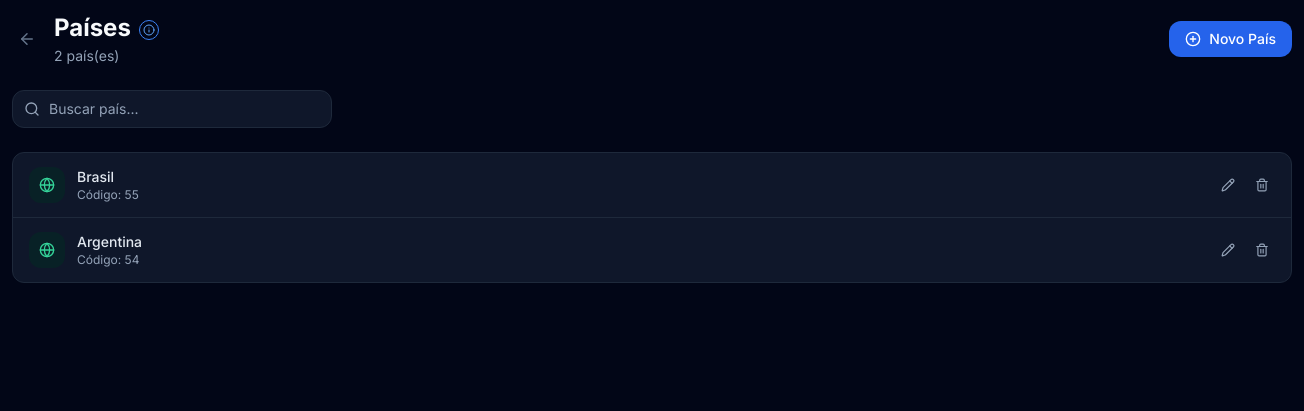
Scenario: PaisesConfigPage busca e criação › filtra países pela busca
Check: the text "Brasil" is shown, box top-left (77, 168), bottom-right (114, 185)
Type "Argent" into the field with placeholder "Buscar país..." at (172, 109), box top-left (12, 90), bottom-right (332, 128)
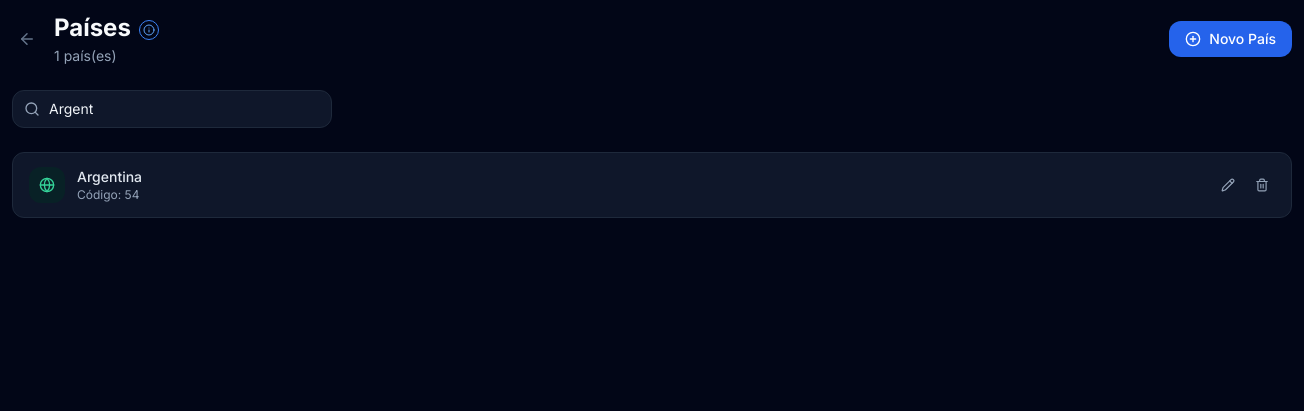
Check: the text "Argentina" is shown, box top-left (77, 167), bottom-right (142, 187)
Check: the text "Brasil" is gone
Replace the text in the field with placeholder "Buscar país..." with "zzz" at (172, 109), box top-left (12, 90), bottom-right (332, 128)
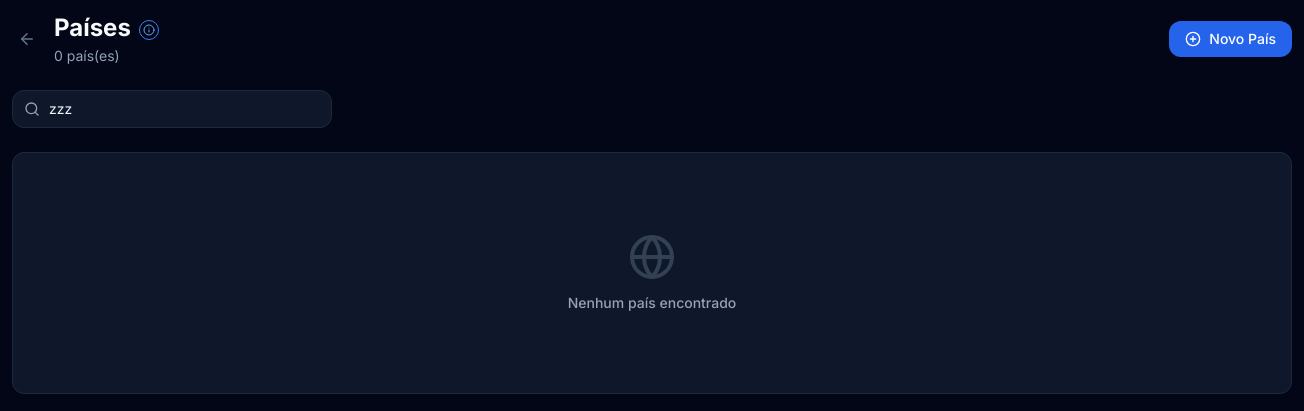
Check: the text "Nenhum país encontrado" is shown, box top-left (568, 293), bottom-right (736, 313)
